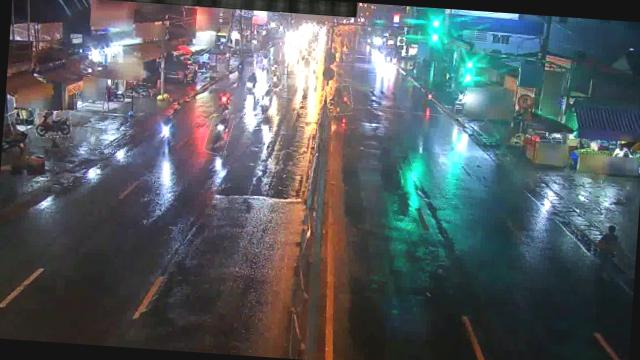Bike: (205, 110, 233, 156), (34, 108, 73, 138), (324, 82, 352, 116), (155, 115, 179, 147), (212, 86, 237, 116), (258, 87, 276, 117), (123, 81, 153, 97), (268, 65, 284, 88), (246, 66, 258, 92), (258, 50, 269, 69)
